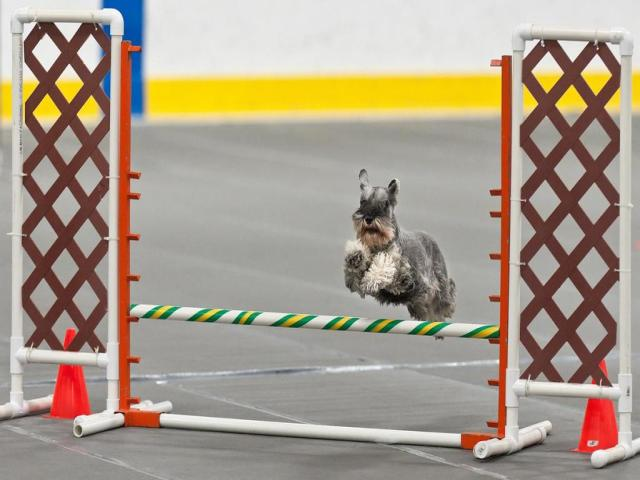Dog: (339, 165, 460, 342)
